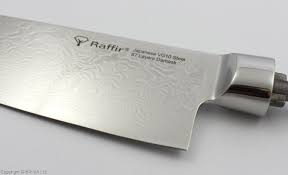knife: (1, 9, 285, 156)
